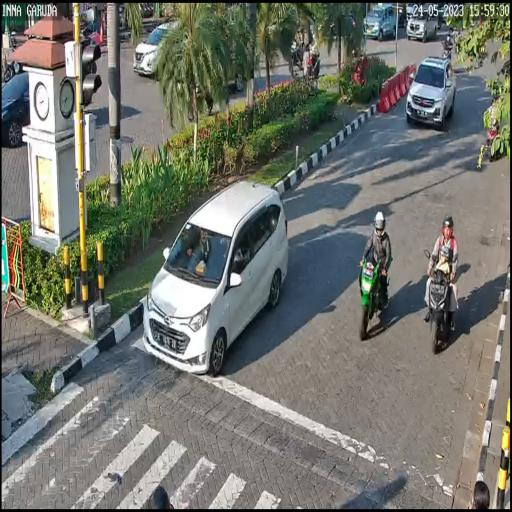mobil: (142, 186, 289, 378), (408, 55, 456, 129)
motor: (423, 244, 461, 365), (357, 241, 393, 341)
